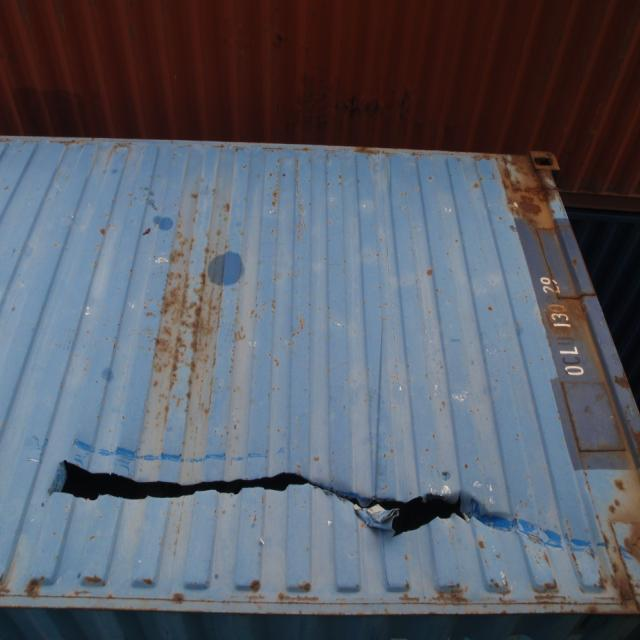hole: (43, 456, 562, 545)
